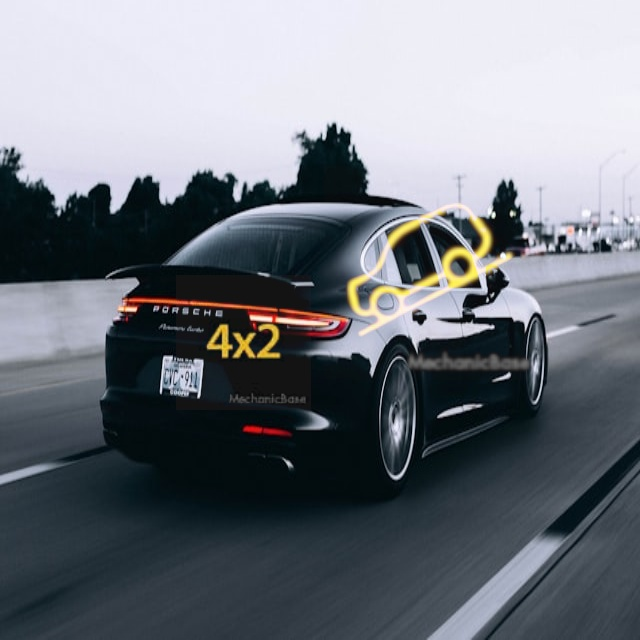symbol: (324, 166, 538, 380), (176, 275, 311, 410)
